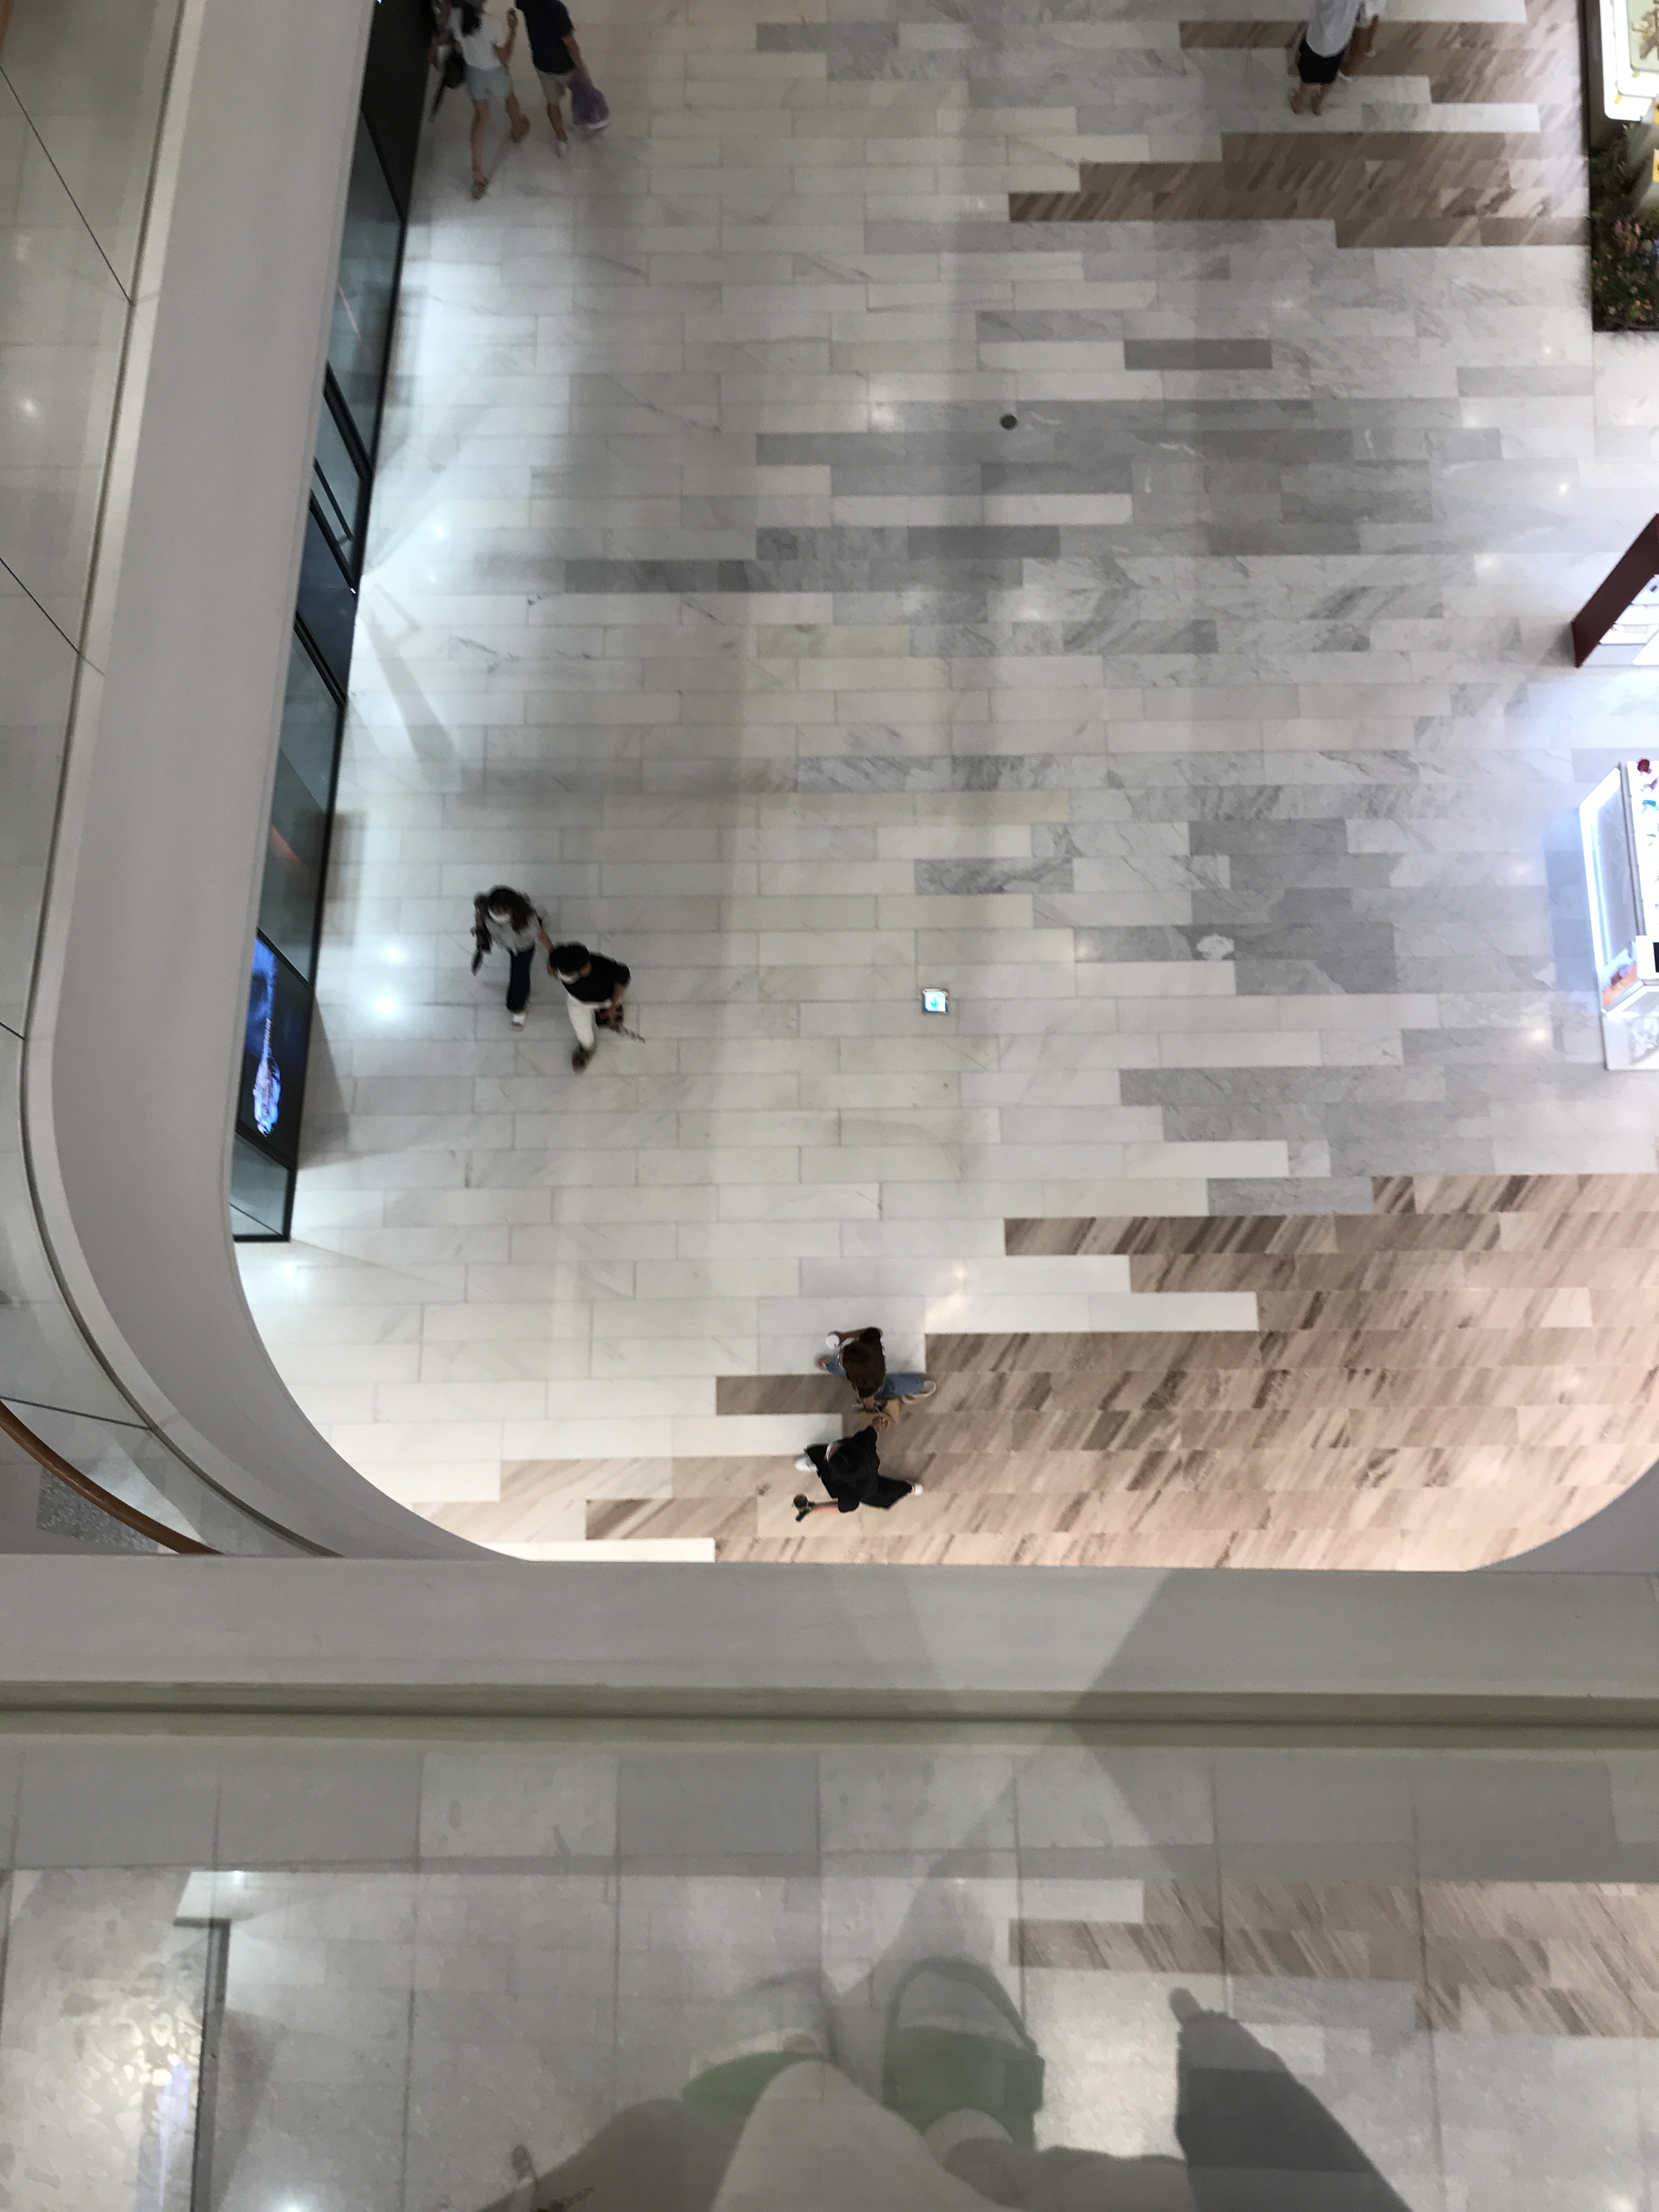person: (435, 1, 533, 199), (510, 1, 614, 160), (791, 1418, 927, 1522), (814, 1321, 938, 1424), (465, 881, 548, 1030), (544, 939, 635, 1073), (1284, 1, 1363, 119), (1335, 1, 1387, 81)
